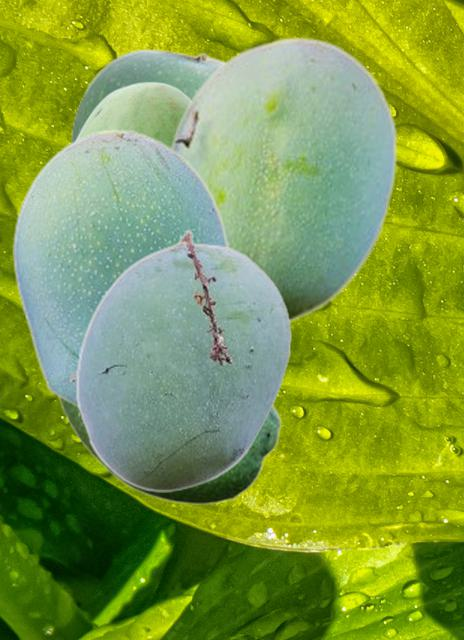green_mango: (168, 36, 397, 326), (11, 128, 231, 409), (75, 229, 291, 491), (57, 398, 281, 505), (70, 48, 226, 140), (75, 81, 190, 144)
